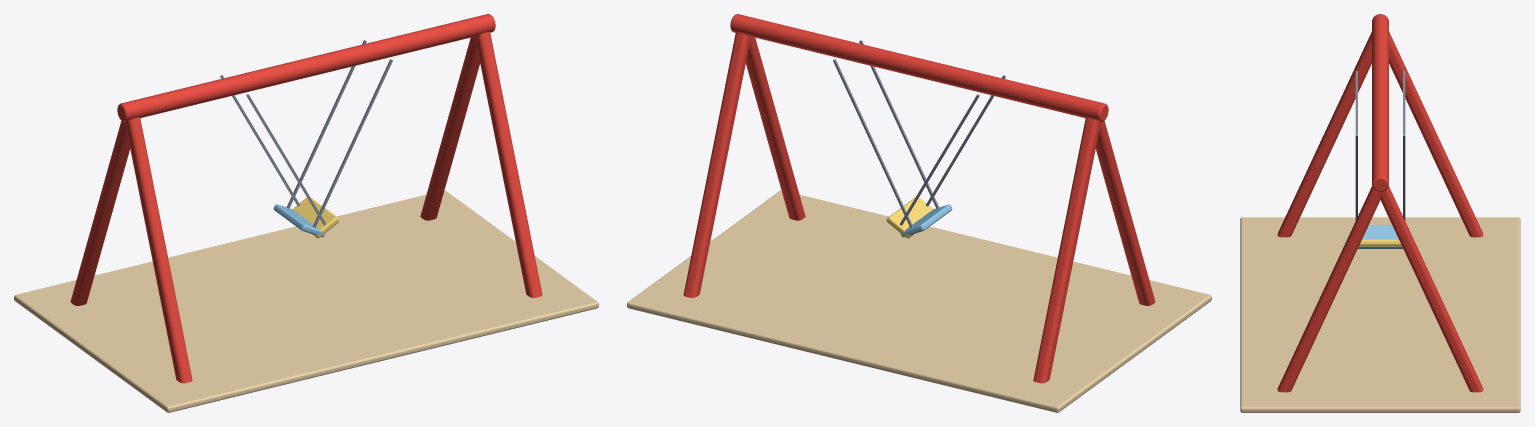
The model's file is swing.glb.
3 views of the same model, side by side, from view 1: azimuth 30°, elevation 25°; view 2: azimuth 150°, elevation 25°; view 3: azimuth 270°, elevation 25° (orthographic). The views are drawn at different scales.
Parts seen in each view (by area): view 1: swing.005, seat1.022, seat0.012; view 2: swing.005, seat1.022, seat0.012; view 3: swing.005, seat1.022, seat0.012.
Boxes of the visible parts, x1=… form: swing.005: x1=14, y1=14, x2=598, y2=412; seat1.022: x1=273, y1=40, x2=392, y2=237; seat0.012: x1=220, y1=75, x2=339, y2=238; swing.005: x1=627, y1=14, x2=1211, y2=412; seat1.022: x1=833, y1=40, x2=952, y2=237; seat0.012: x1=886, y1=75, x2=1005, y2=238; swing.005: x1=1240, y1=14, x2=1520, y2=412; seat1.022: x1=1355, y1=134, x2=1405, y2=248; seat0.012: x1=1355, y1=71, x2=1405, y2=246.
Size of the model in its own units: 4.2 by 2.28 by 2.6.
Materials: 1 (1 with a texture image).
